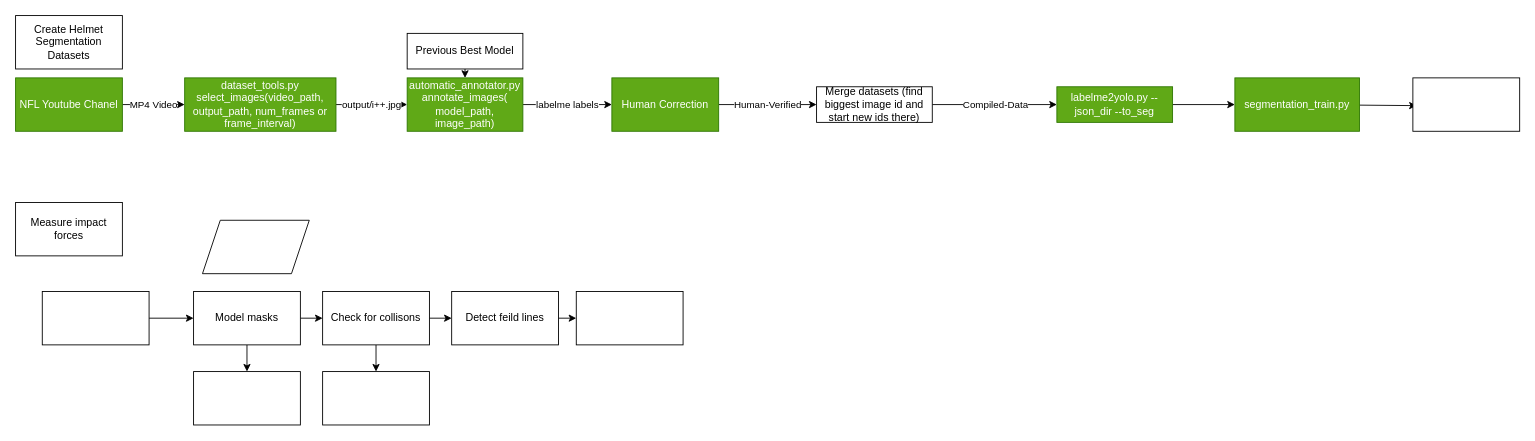
This 1535x441 diagram has some shape labels left out. The centre of each missing label's shape, as x and y in pixels:
"Desired player helmet ID" belongs at point 95,318.
"For each frame" belongs at point 255,246.
"Trained Model" belongs at point 1466,104.
"Transform image output based on field lines" belongs at point 629,318.
"Update collision occurance list" belongs at point 375,398.
"Update XY position list for given helmet" belongs at point 246,398.
